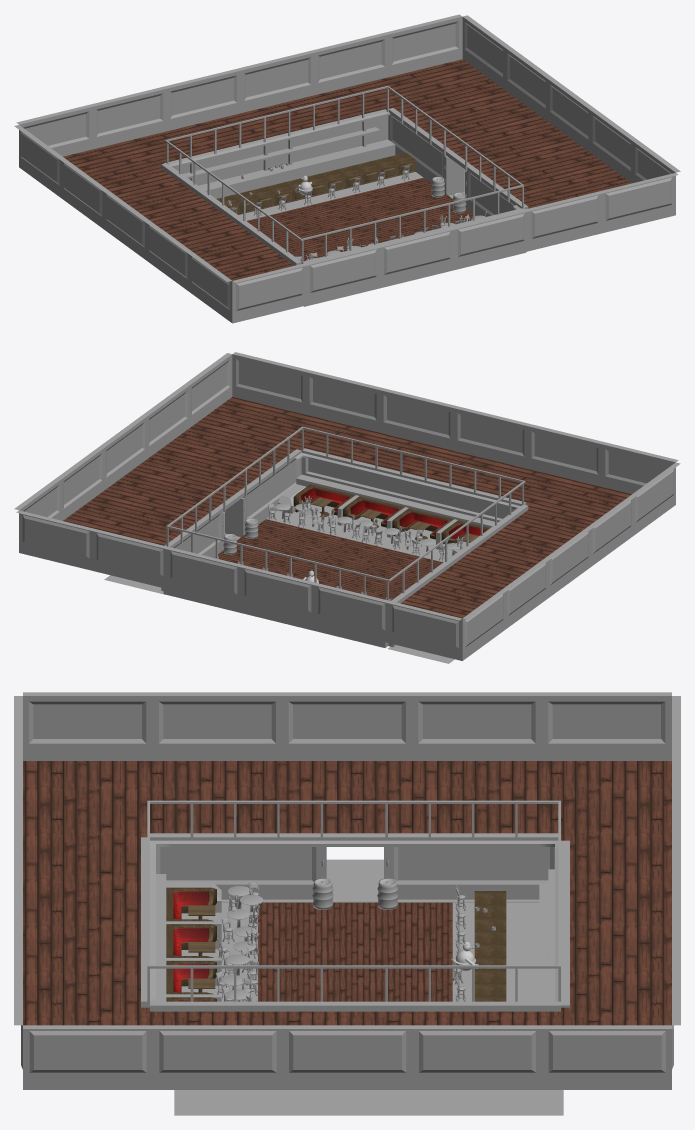
The model's file is GreyboxV2_FBX.fbx.
3 views of the same model, one above another, from view 1: azimuth 30°, elevation 25°; view 2: azimuth 150°, elevation 25°; view 3: azimuth 270°, elevation 25° (orthographic). The views are drawn at different scales.
Parts seen in each view (by area): view 1: group5; view 2: group5; view 3: group5.
Part boxes in pixels (x1,y1,x2,y2): group5: (14, 14, 680, 323); group5: (14, 352, 680, 663); group5: (14, 692, 680, 1115).
Bounding box in the file's own units: 3683 × 648 × 3083.
